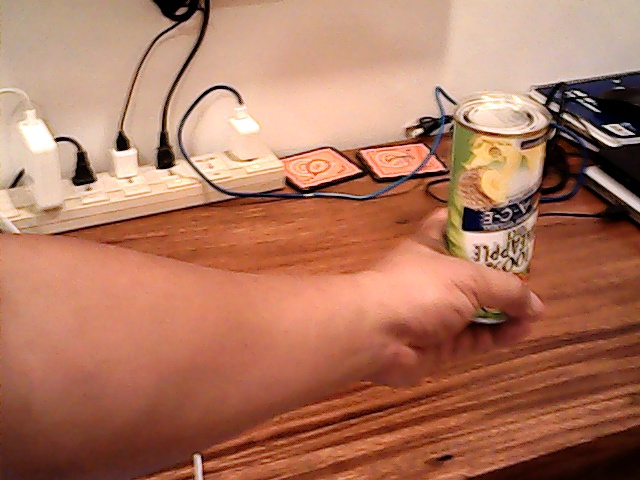Pine Juice: (434, 78, 566, 304)
